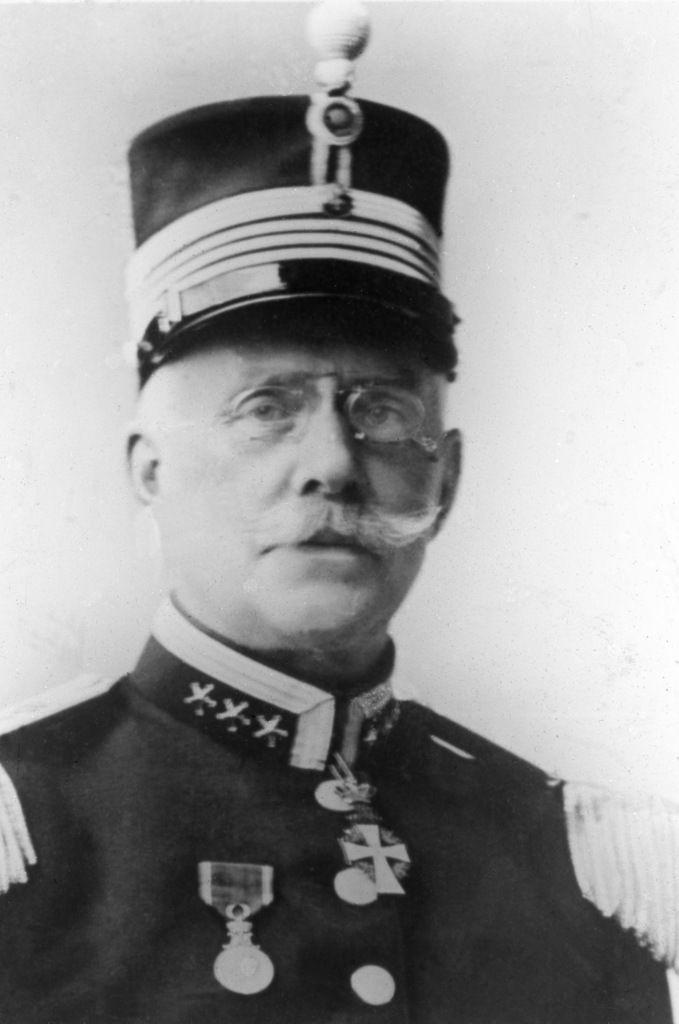face: (191, 226, 418, 656)
